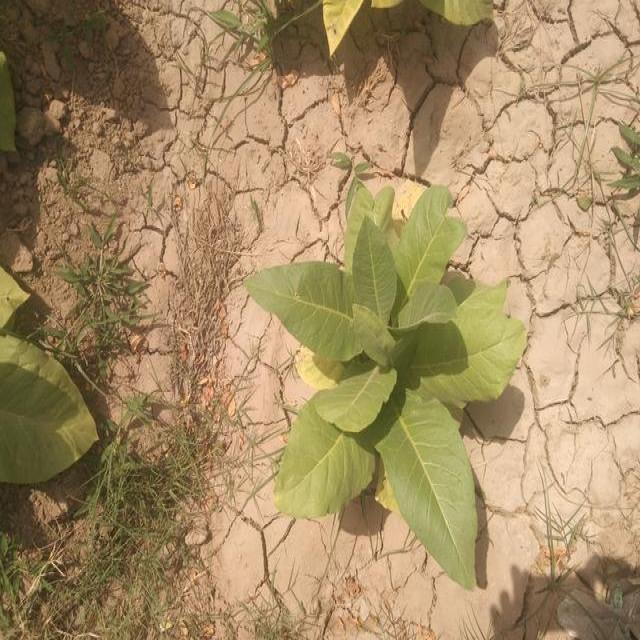crop: (258, 170, 518, 586)
